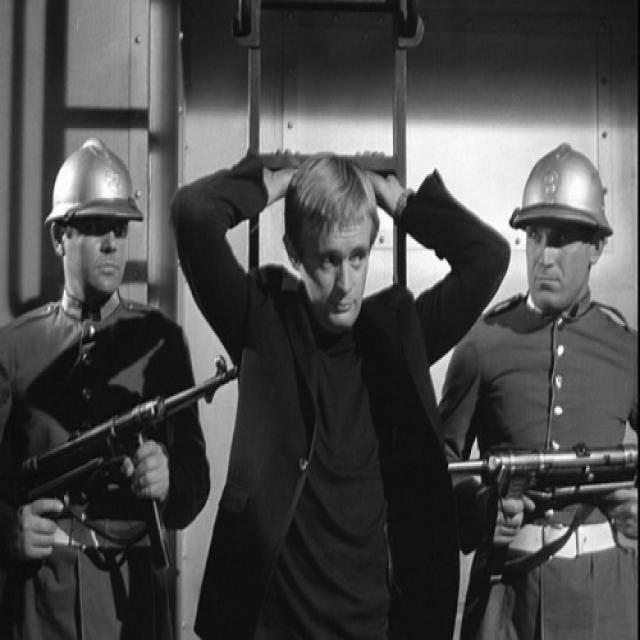rifle: (8, 347, 250, 573), (440, 435, 640, 577)
